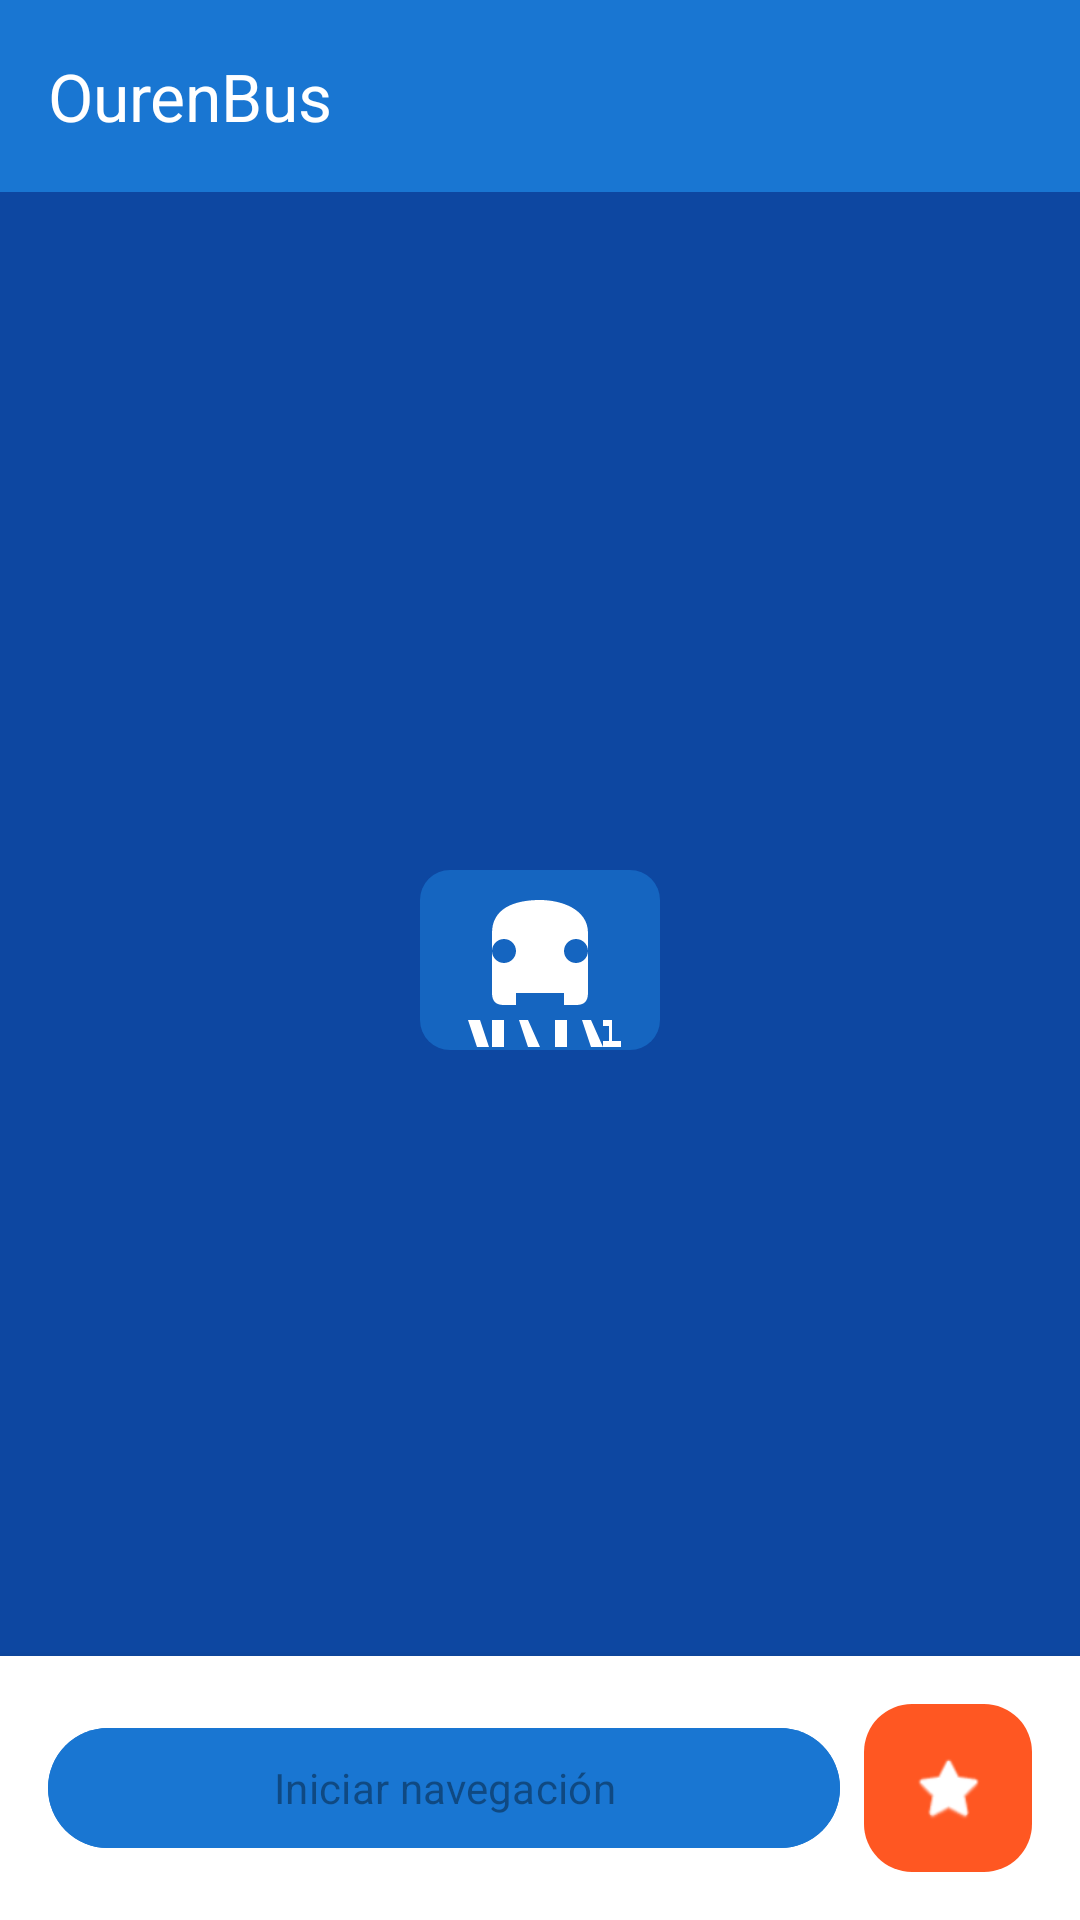

Point at icon controls on the screen. Image size 1080px x 1920px, points as (x,y).
star off: (948,1788)
